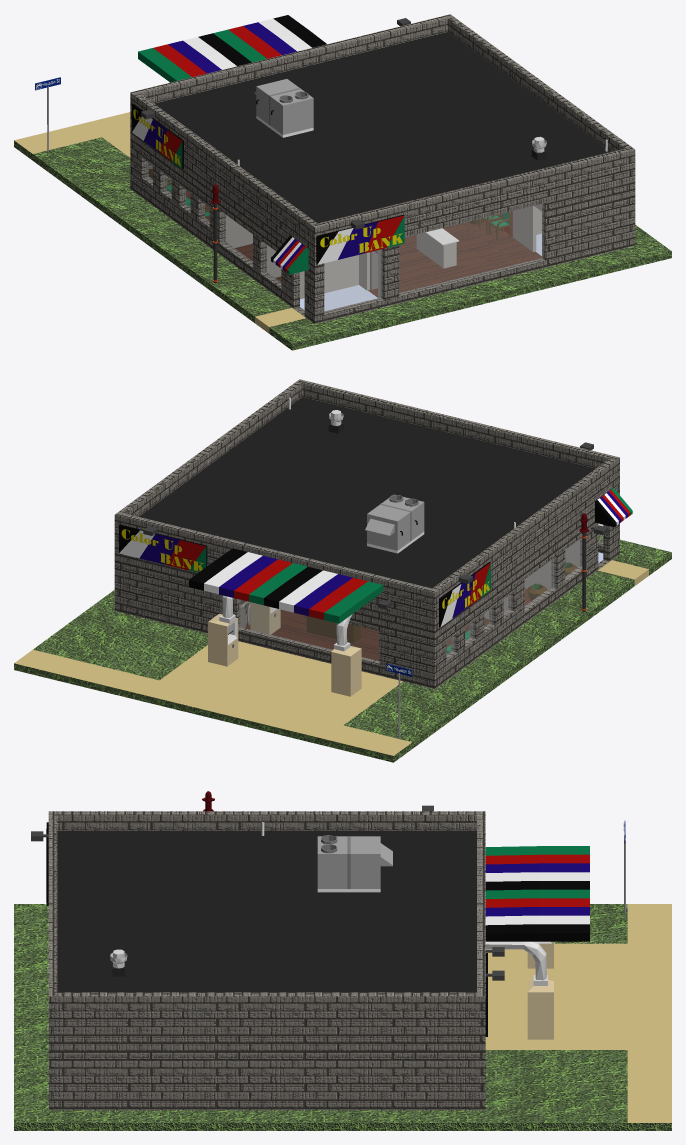
File: Bank.glb
3 views of the same model, one above another, from view 1: azimuth 30°, elevation 25°; view 2: azimuth 150°, elevation 25°; view 3: azimuth 270°, elevation 25° (orthographic). The views are drawn at different scales.
Parts seen in each view (by area): view 1: Roof, Walls, Ground, Windows, Overhang, Ground.001, Floor, Signs, Int Walls, RTU, Tables, Chairs (+1 smaller); view 2: Roof, Walls, Ground.001, Ground, Overhang, Windows, Pnuematic System, Signs, RTU, Floor, Int Walls, Tables; view 3: Roof, Walls, Ground.001, Ground, Overhang, RTU, Pnuematic System, Lights Ext.
Part boxes in pixels (x1=…): Roof: x1=154, y1=32, x2=610, y2=223; Walls: x1=130, y1=14, x2=635, y2=323; Ground: x1=92, y1=189, x2=671, y2=350; Windows: x1=144, y1=160, x2=543, y2=312; Overhang: x1=138, y1=15, x2=326, y2=274; Ground.001: x1=14, y1=112, x2=130, y2=204; Floor: x1=170, y1=182, x2=541, y2=310; Signs: x1=132, y1=103, x2=404, y2=264; Int Walls: x1=226, y1=204, x2=541, y2=299; RTU: x1=254, y1=79, x2=313, y2=137; Tables: x1=416, y1=228, x2=458, y2=268; Chairs: x1=148, y1=168, x2=511, y2=240; Roof: x1=139, y1=397, x2=595, y2=588; Walls: x1=114, y1=379, x2=619, y2=689; Ground.001: x1=14, y1=606, x2=472, y2=762; Ground: x1=93, y1=534, x2=671, y2=704; Overhang: x1=189, y1=488, x2=632, y2=623; Windows: x1=238, y1=524, x2=602, y2=662; Pnuematic System: x1=208, y1=595, x2=361, y2=696; Signs: x1=119, y1=524, x2=490, y2=627; RTU: x1=365, y1=494, x2=424, y2=553; Floor: x1=245, y1=552, x2=603, y2=660; Int Walls: x1=484, y1=539, x2=579, y2=619; Tables: x1=306, y1=616, x2=360, y2=643; Roof: x1=57, y1=831, x2=476, y2=992; Walls: x1=48, y1=811, x2=485, y2=1110; Ground.001: x1=485, y1=904, x2=671, y2=1130; Ground: x1=14, y1=904, x2=485, y2=1130; Overhang: x1=485, y1=846, x2=589, y2=941; RTU: x1=317, y1=835, x2=392, y2=892; Pnuematic System: x1=485, y1=941, x2=553, y2=1039; Lights Ext: x1=31, y1=805, x2=504, y2=980.
Size of what is drawn, in the model's own units: 18.07 by 5.64 by 22.94.
Materials: 70 (3 with a texture image).
